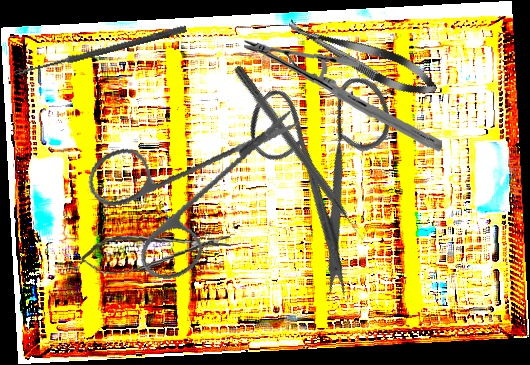Iris Scissors: (196, 34, 468, 306), (71, 73, 303, 300)
Micro Scissor: (282, 8, 443, 106), (77, 226, 236, 277)
Needle Holder: (243, 34, 443, 156)
Pusher: (230, 63, 372, 251)
Surgical Spoon: (13, 24, 188, 78)
